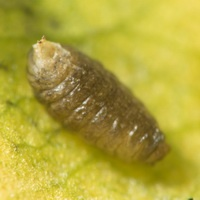insect: (27, 37, 169, 163)
